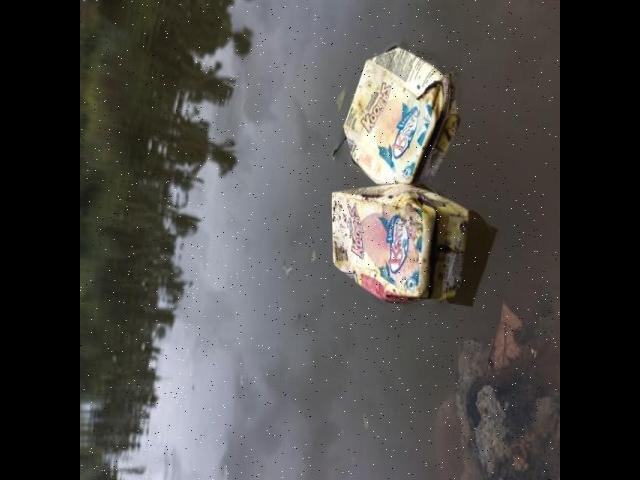Box: (318, 176, 476, 308), (340, 36, 462, 188)
